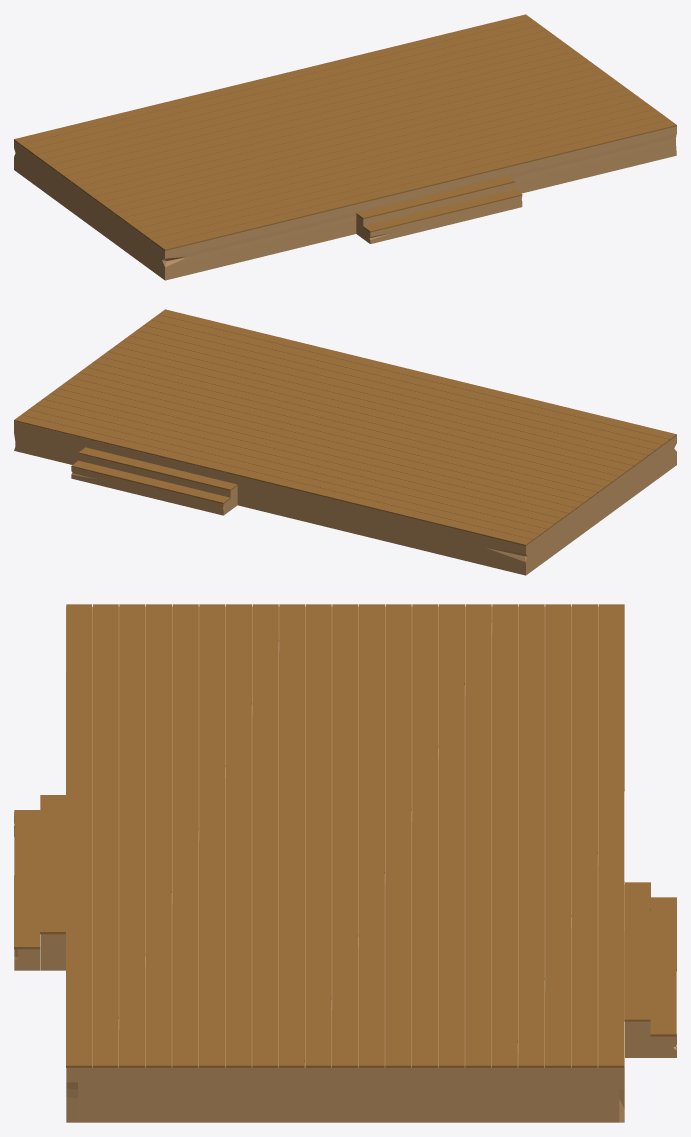
Rendered from Platform_6.fbx.
3 renders of one model, top to bottom at view 1: azimuth 30°, elevation 25°; view 2: azimuth 150°, elevation 25°; view 3: azimuth 270°, elevation 25°, orthographic. The views are drawn at different scales.
Parts seen in each view (by area): view 1: Platform_6; view 2: Platform_6; view 3: Platform_6.
Boxes of the visible parts, <box> form: Platform_6: <box>14,14,676,280</box>; Platform_6: <box>14,309,676,575</box>; Platform_6: <box>14,604,676,1122</box>.
Size of the model in its own units: 1473 by 894 by 84.71.
